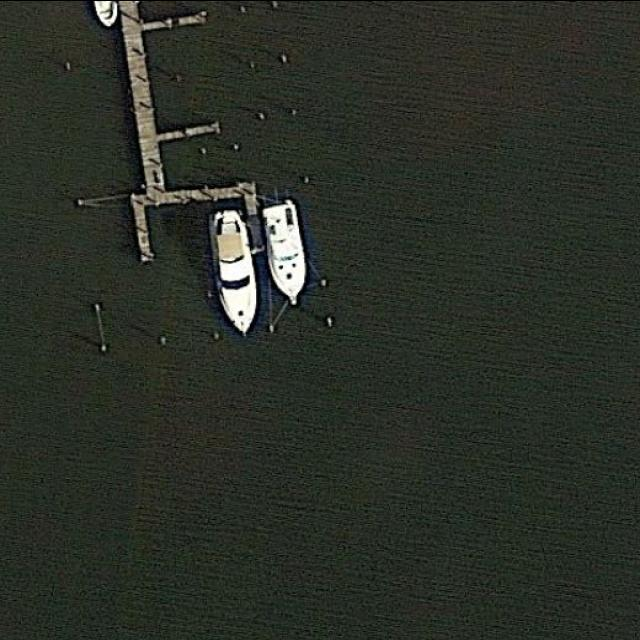ship: (206, 205, 258, 334), (260, 195, 308, 304)
